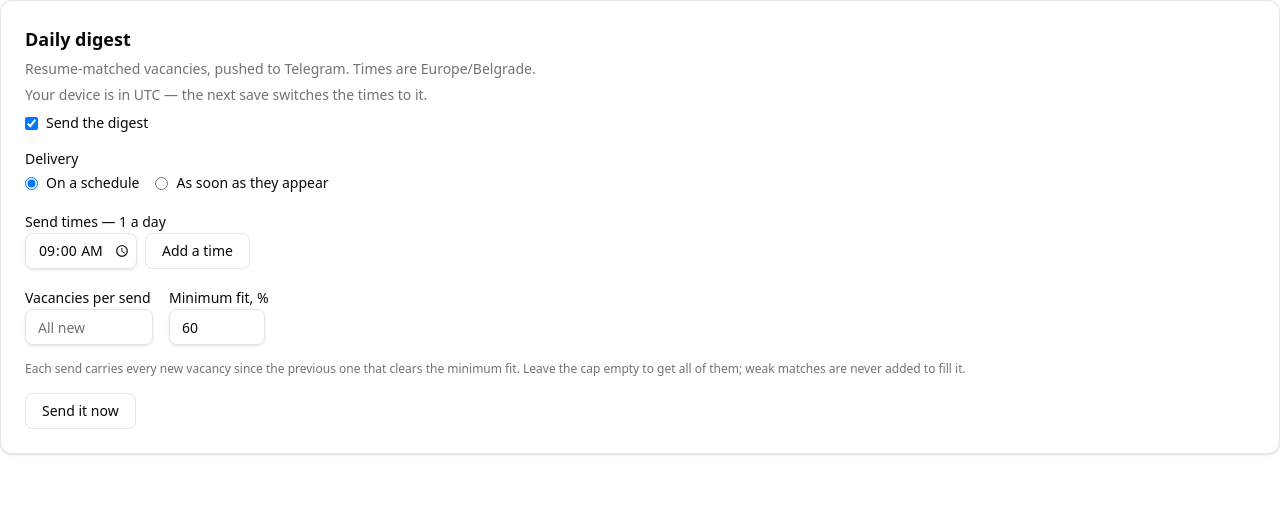
Test: DigestSettings › rolls back and explains itself when the save fails
Click the checkbox: point(32, 123) [25,116,38,130]
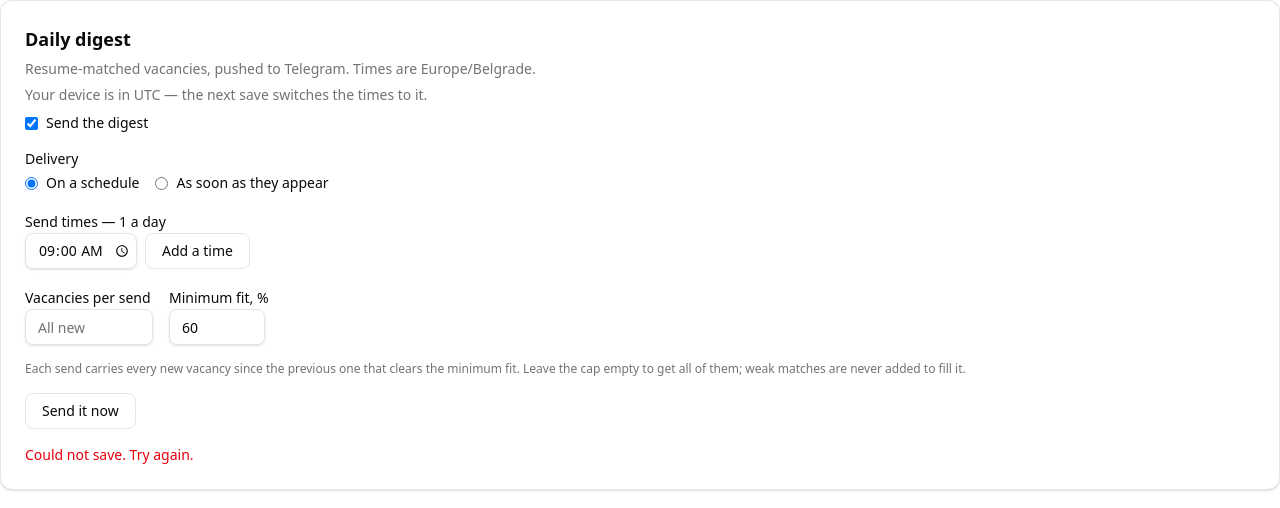
expect the text "Could not save. Try again." is shown: met, box [25,445,194,464]
